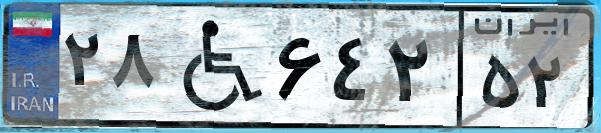2: (385, 28, 445, 110), (57, 26, 110, 100), (525, 38, 570, 115)
4: (330, 28, 385, 110)
5: (475, 38, 525, 113)
6: (270, 28, 330, 110)
8: (110, 28, 158, 98)
ژ (معلولین و جانبازان): (158, 12, 270, 120)
